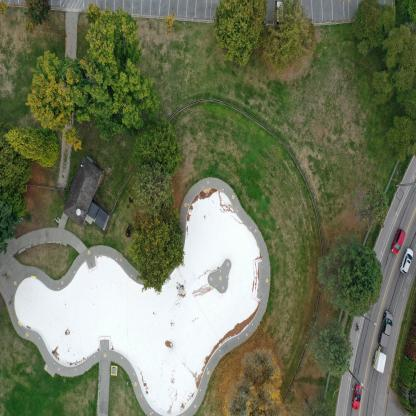Coniferous Tree: (322, 226, 379, 318), (210, 0, 266, 74), (138, 216, 186, 285), (230, 355, 280, 416), (270, 0, 312, 62), (353, 0, 394, 57), (308, 319, 353, 366), (8, 127, 66, 162), (385, 25, 416, 87), (134, 167, 178, 208), (136, 123, 176, 164), (386, 116, 416, 156), (360, 182, 388, 223), (371, 68, 393, 108), (300, 392, 334, 416), (25, 0, 54, 27), (398, 90, 416, 116), (398, 0, 416, 22)
Deciduous Tree: (29, 52, 85, 128), (82, 4, 139, 68), (80, 61, 122, 141), (112, 70, 162, 134)
